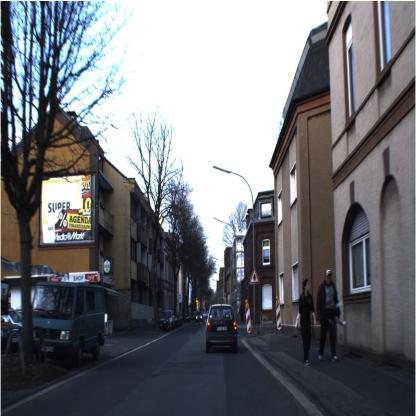danger: (247, 265, 262, 289)
